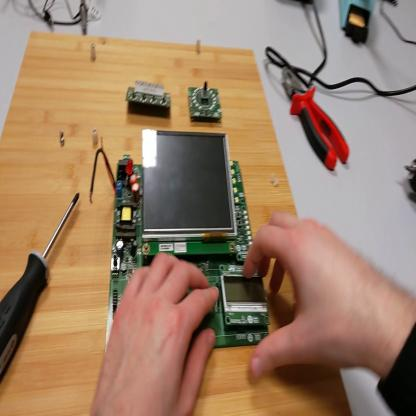electric screwdriver: (406, 156, 416, 201)
hand: (243, 208, 382, 380), (91, 251, 219, 416)
low voltage board: (93, 128, 273, 351)
oscilloscope probe tip: (81, 1, 91, 35)
pliers: (282, 67, 352, 171)
screwdriver-: (2, 191, 78, 382)
welder station: (339, 1, 375, 46)
working area: (2, 37, 354, 416)
